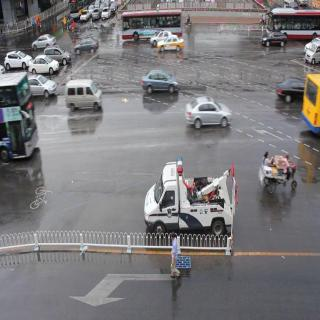BigCar: (0, 74, 38, 163), (119, 11, 184, 39), (268, 9, 320, 38), (68, 0, 82, 21)
Car: (142, 163, 234, 229), (186, 94, 234, 133), (66, 80, 106, 114), (140, 71, 180, 99), (28, 75, 57, 105), (275, 79, 307, 104), (157, 36, 186, 59), (30, 56, 60, 78), (260, 29, 290, 51), (46, 46, 72, 64), (4, 54, 30, 70), (74, 39, 99, 54), (306, 41, 320, 67), (31, 33, 57, 46), (101, 6, 112, 22), (81, 8, 91, 24), (92, 7, 101, 23)
